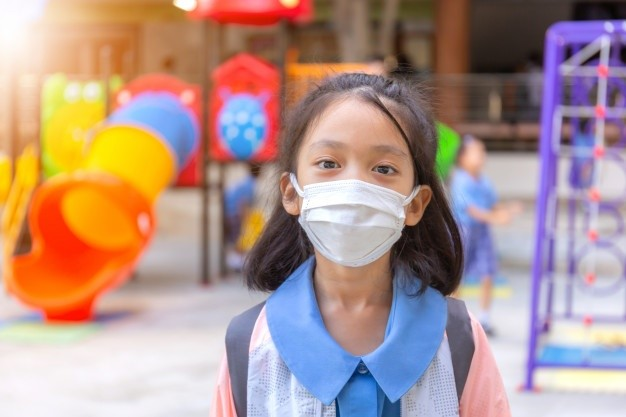face_with_mask: (280, 93, 435, 285)
